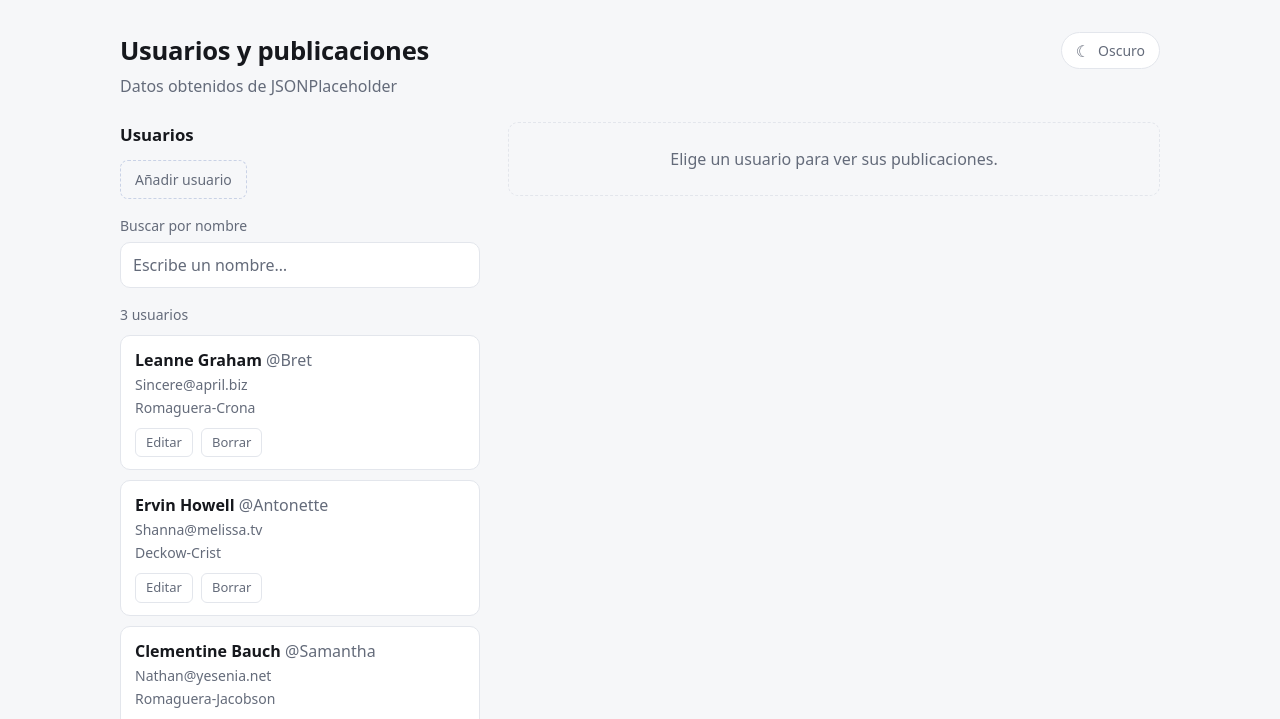
Test: App › muestra las publicaciones del usuario elegido
Click the button with aria-label "ver publicaciones de leanne graham": (198, 360) [135,348,465,418]
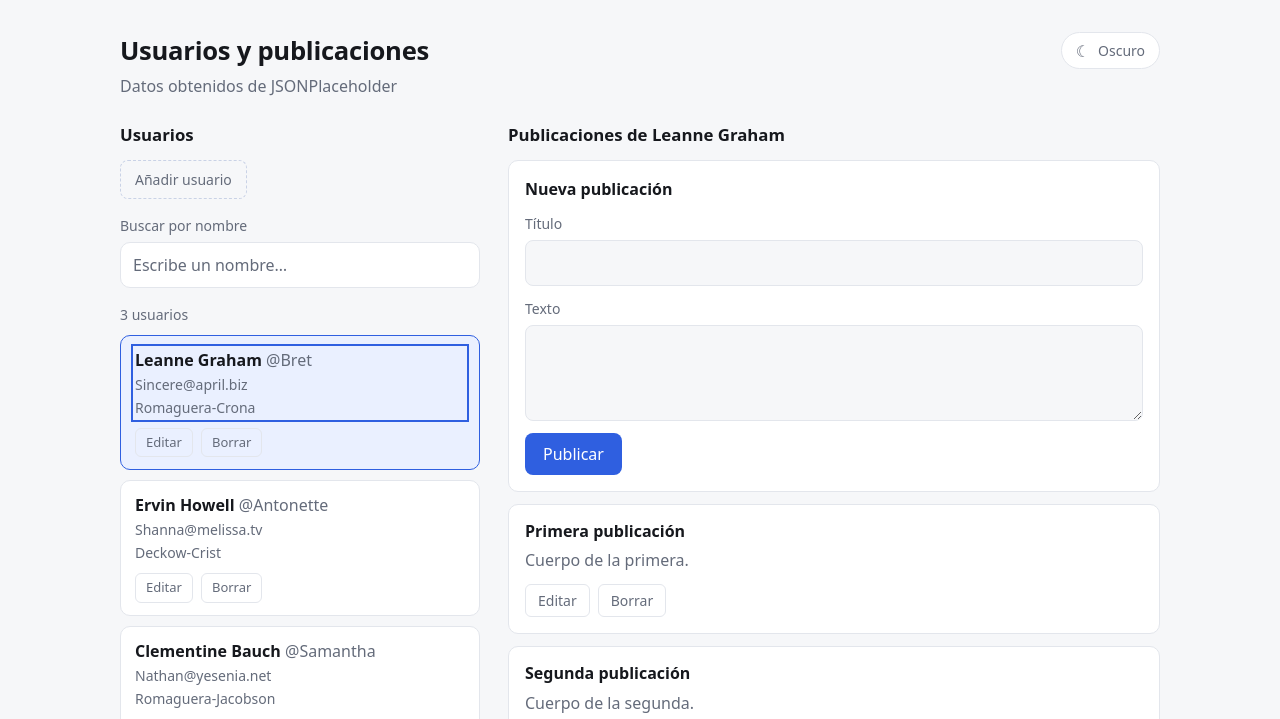
Now the heading "Publicaciones de Leanne Graham" is shown, box [508,123,785,146]
Now the heading "Primera publicación" is shown, box [525,520,685,542]
Now the heading "Segunda publicación" is shown, box [525,662,690,684]
